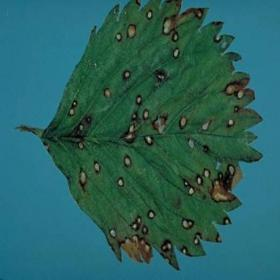Leaf Spot: (38, 0, 264, 271)
